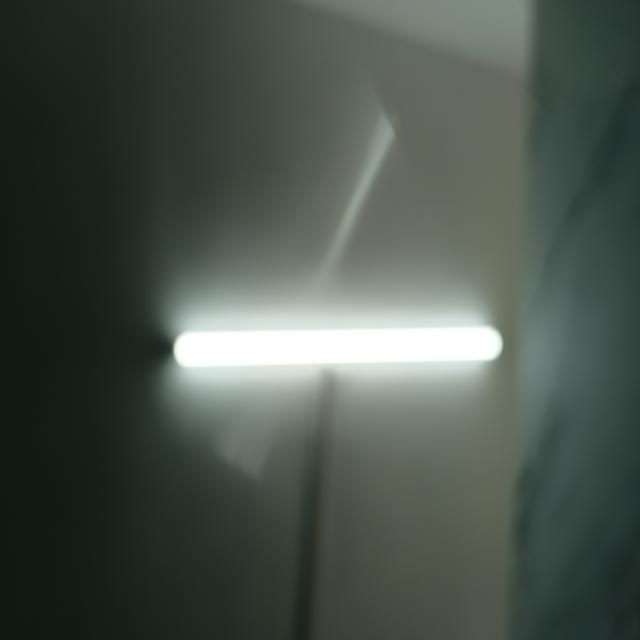fluorescent tube: (155, 297, 510, 397)
